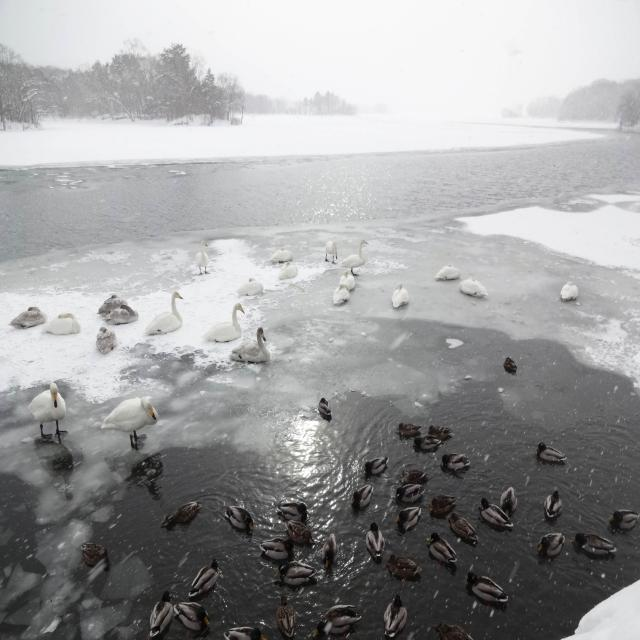bird: (218, 301, 274, 366), (104, 392, 162, 452), (22, 382, 70, 444), (145, 288, 185, 340), (92, 290, 138, 324), (468, 574, 508, 610), (161, 495, 201, 530), (188, 558, 222, 597), (380, 594, 410, 638), (426, 532, 458, 573), (218, 498, 252, 536), (332, 265, 362, 305), (274, 562, 319, 588), (386, 556, 422, 588), (8, 305, 47, 334), (173, 599, 210, 629), (578, 536, 617, 564), (148, 592, 172, 637), (338, 234, 368, 269), (319, 604, 362, 628), (257, 537, 294, 563), (190, 240, 215, 278), (273, 496, 310, 521), (608, 509, 639, 538), (348, 484, 374, 517), (46, 311, 79, 337), (534, 444, 568, 469), (476, 503, 510, 528), (537, 534, 565, 564), (450, 520, 480, 548), (363, 522, 385, 560), (436, 451, 469, 476), (387, 278, 412, 309), (393, 510, 422, 536), (427, 495, 456, 521), (543, 487, 563, 524), (360, 456, 388, 482), (94, 325, 117, 354), (408, 434, 441, 454), (459, 276, 487, 298), (323, 536, 343, 566), (561, 278, 584, 302), (313, 397, 333, 424), (432, 262, 459, 280), (268, 244, 296, 261), (321, 238, 339, 264), (394, 420, 420, 438), (501, 485, 518, 507), (502, 353, 518, 376)
